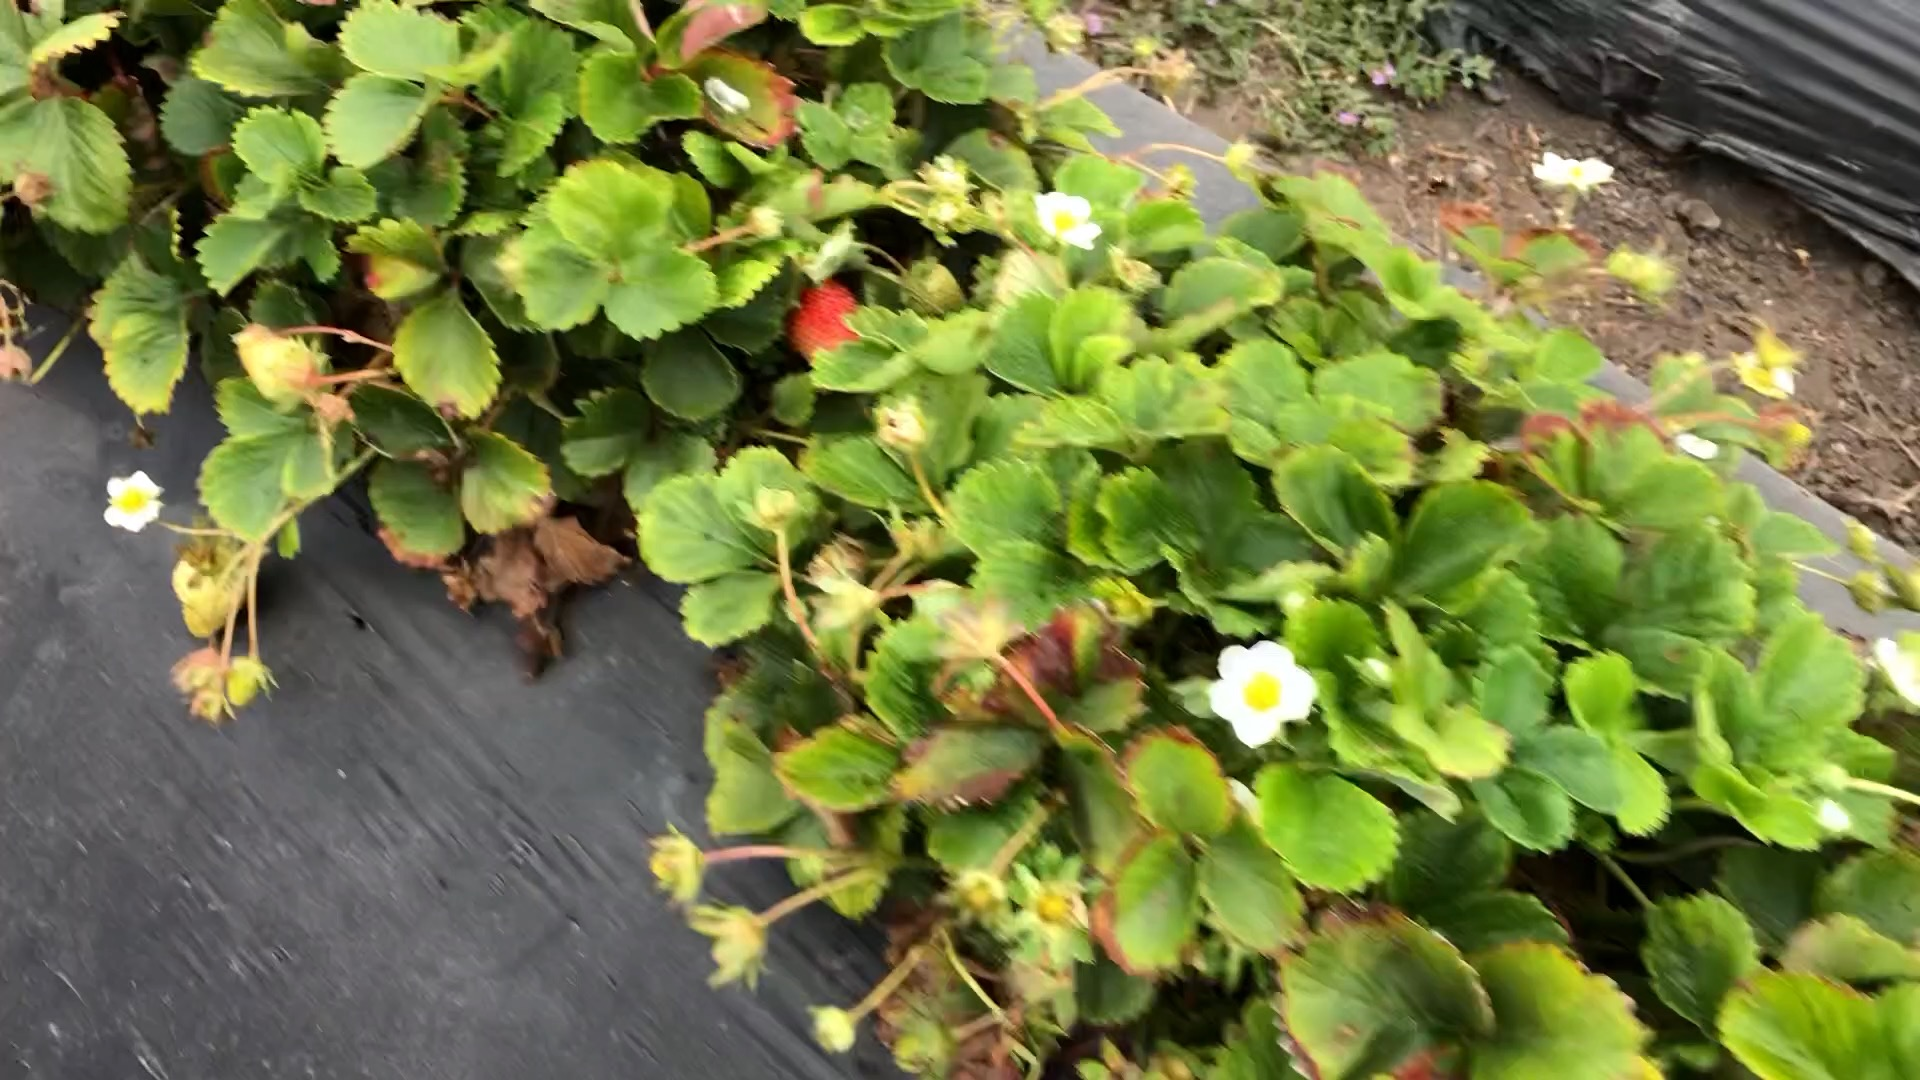ripe_strawberry: (785, 276, 865, 368)
unripe_strawberry: (171, 541, 247, 640), (899, 258, 971, 323)
